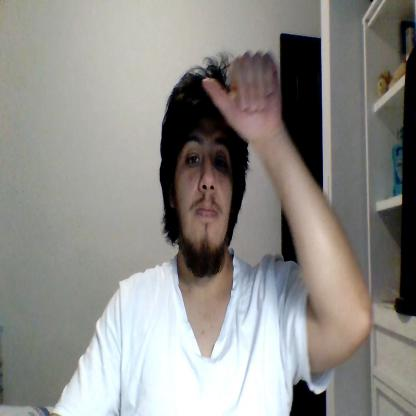A: (203, 49, 281, 139)
